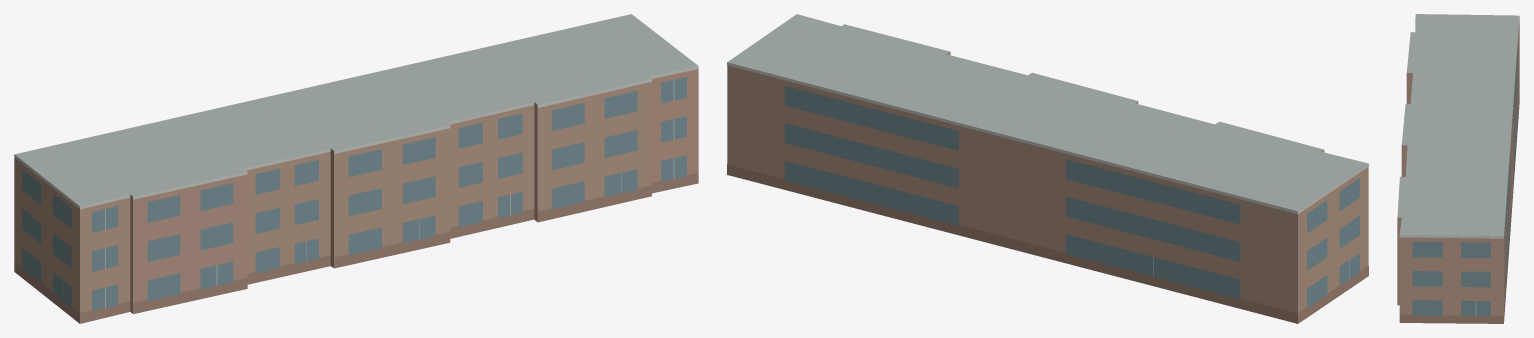
File: survey-upis-32623160.glb
3 renders of one model, left to right at view 1: azimuth 30°, elevation 25°; view 2: azimuth 150°, elevation 25°; view 3: azimuth 270°, elevation 25°, orthographic. The views are drawn at different scales.
Parts seen in each view (by area): view 1: survey-upis-32623160.tmp; view 2: survey-upis-32623160.tmp; view 3: survey-upis-32623160.tmp.
Part boxes in pixels (<box>): survey-upis-32623160.tmp: <box>14,14,698,323</box>; survey-upis-32623160.tmp: <box>727,14,1368,323</box>; survey-upis-32623160.tmp: <box>1397,14,1519,323</box>.
Bounding box in the file's own units: 49.77 × 9.15 × 11.56.
